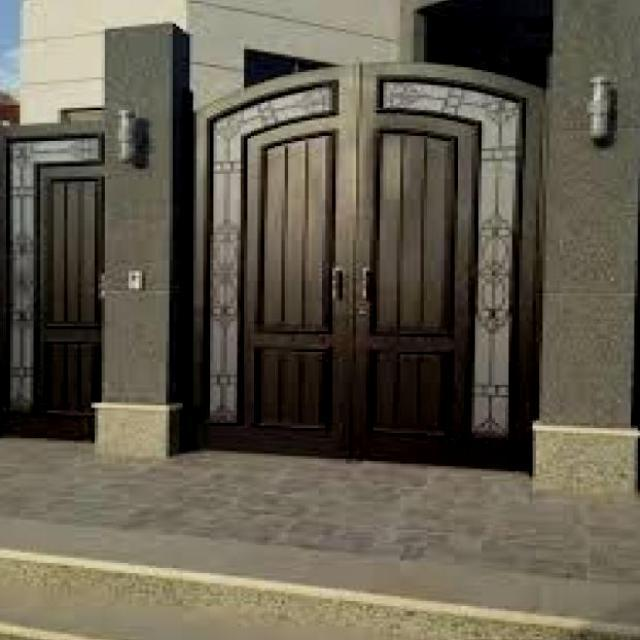door: (359, 52, 547, 480), (190, 49, 352, 456), (0, 115, 106, 446)
